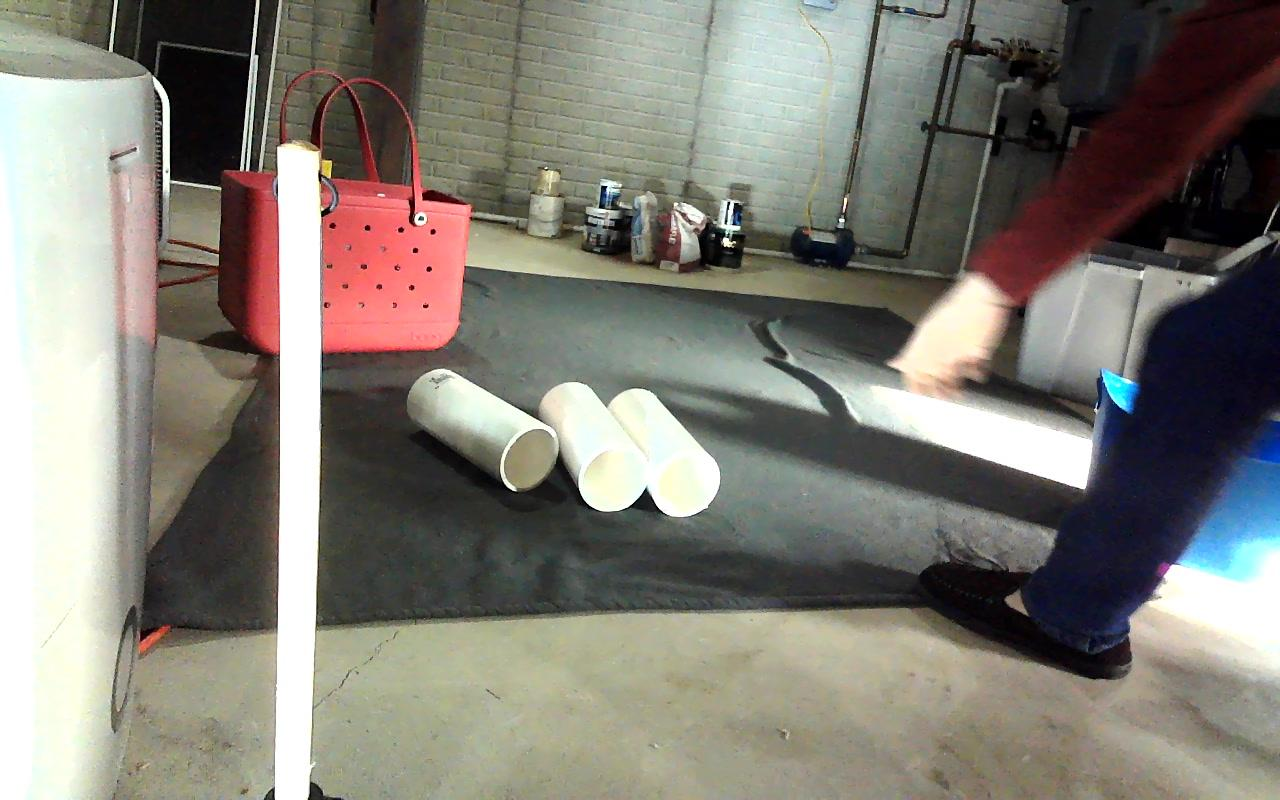coral: (406, 368, 557, 491), (612, 388, 720, 515), (542, 382, 648, 511)
